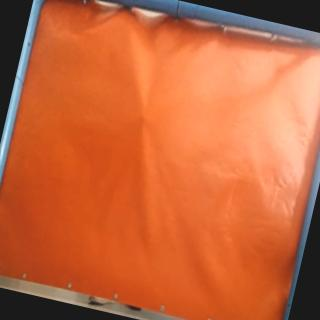Hit-hRxx: (137, 110, 150, 124)
